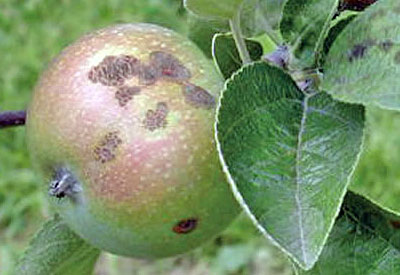defect: (83, 47, 219, 133), (92, 128, 132, 172), (166, 204, 201, 239)
